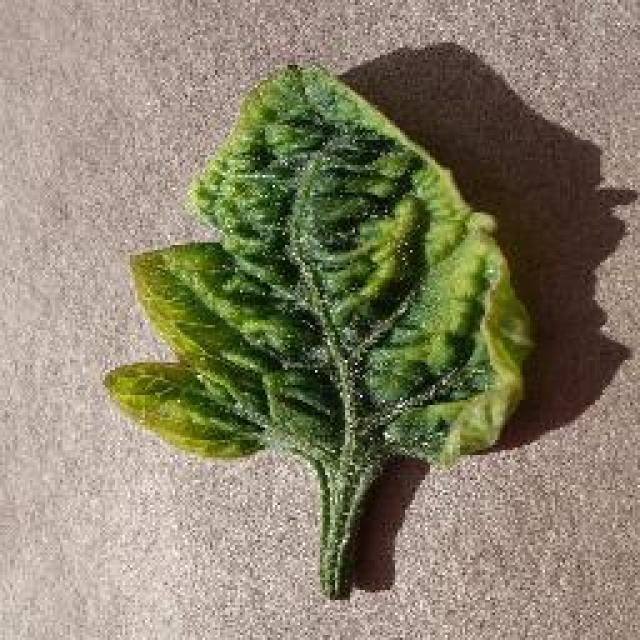Tom_Yellow_Leaf_Curl_Virus: (126, 119, 512, 471)
